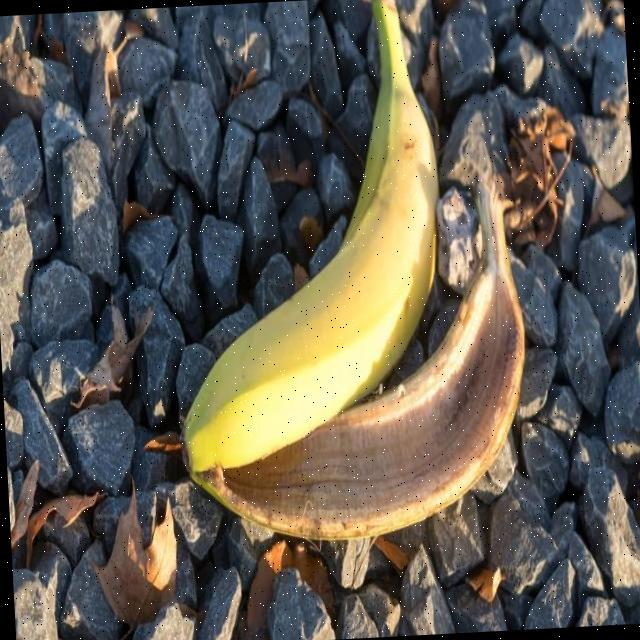banana-peel: (166, 166, 536, 550), (157, 0, 455, 476)
